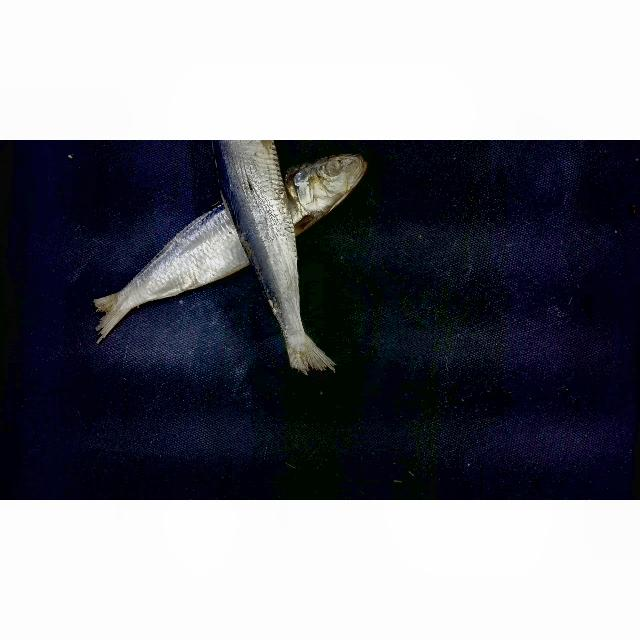Grade_A_Body: (208, 143, 302, 286), (186, 180, 294, 288)
Grade_A_Head: (288, 147, 404, 220)
Grade_A_Tail: (248, 266, 346, 392), (56, 243, 174, 345)
